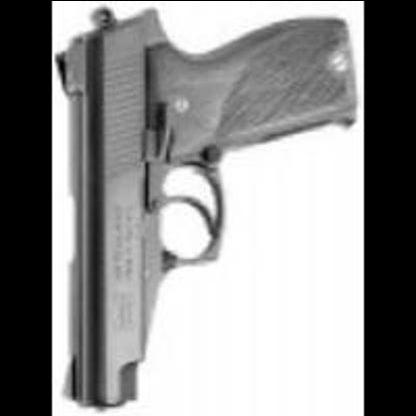weapon: (53, 9, 359, 415)
